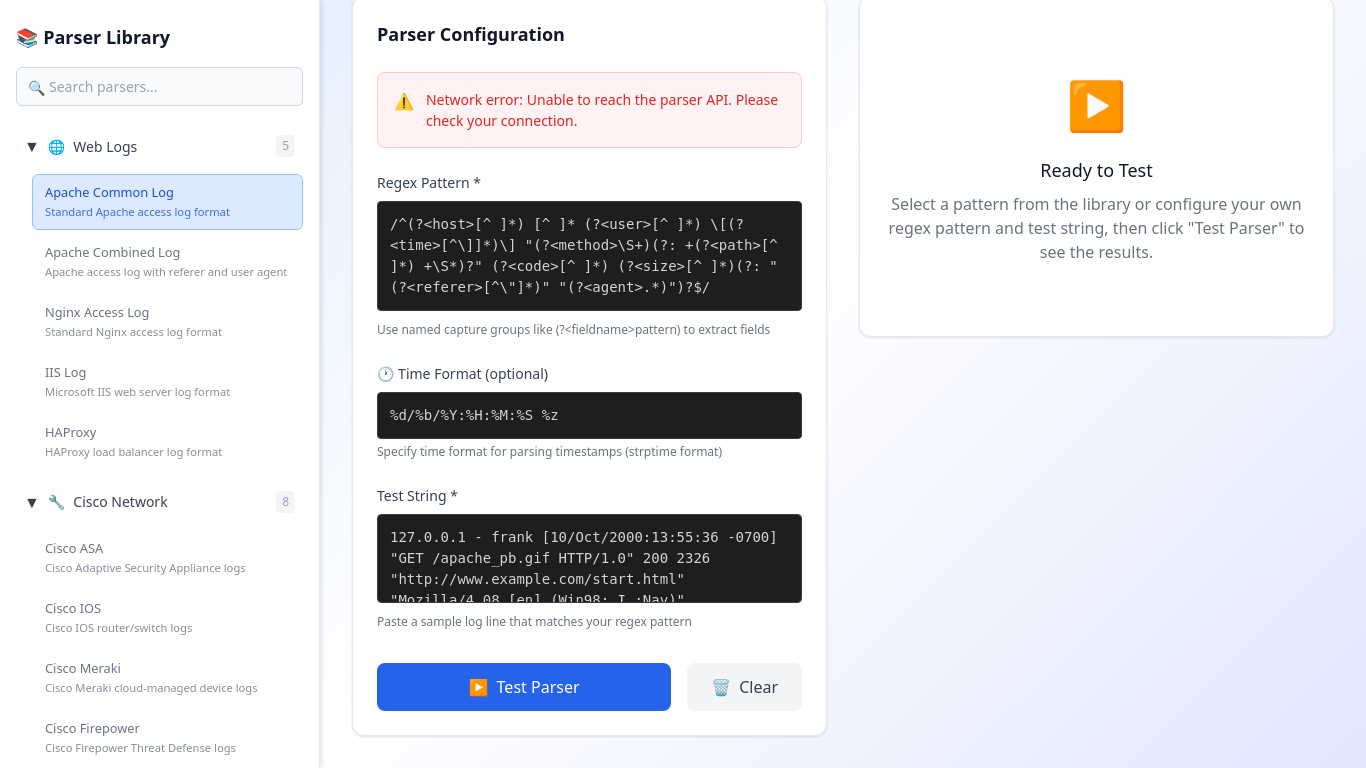
ParserTester › API Integration › handles API timeout errors
The width and height of the screenshot is (1366, 768).
(page scrolled)
Click the button "▶️ Test Parser". click: (524,687)
box: [377,663,671,711]
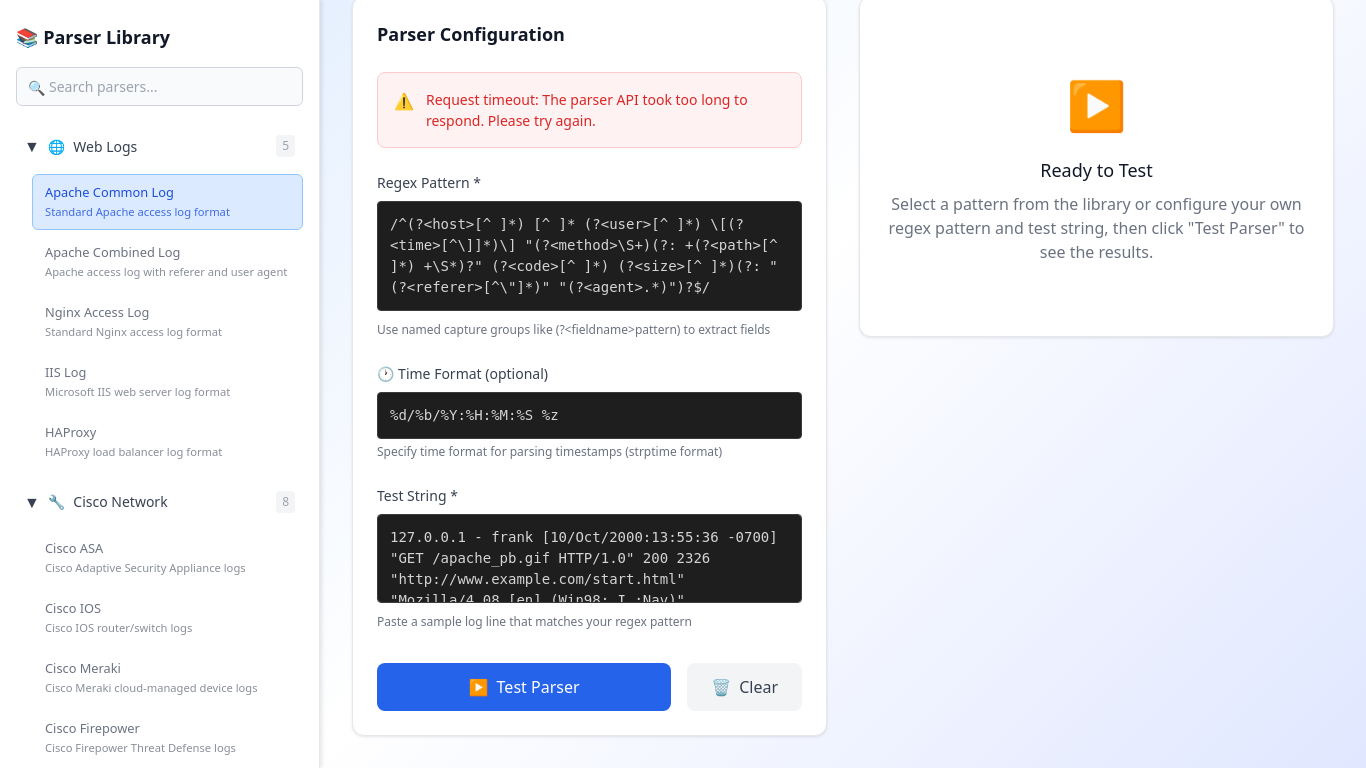
Check: the text "Request timeout" is shown, box [426,90,748,130]
